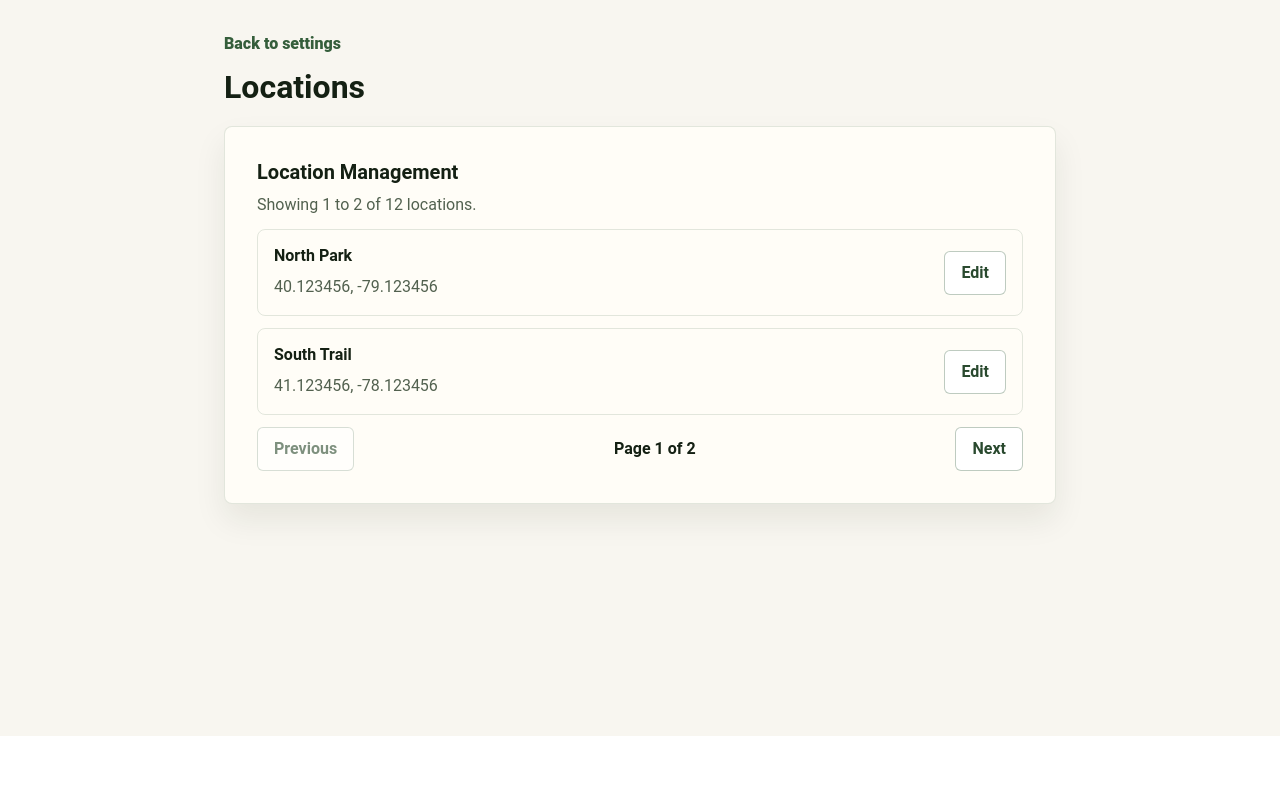
Test: LocationSettingsView › loads the next page
The width and height of the screenshot is (1280, 800).
Click the button "Next" at {"x": 989, "y": 449}, box x1=956 y1=427 x2=1023 y2=471
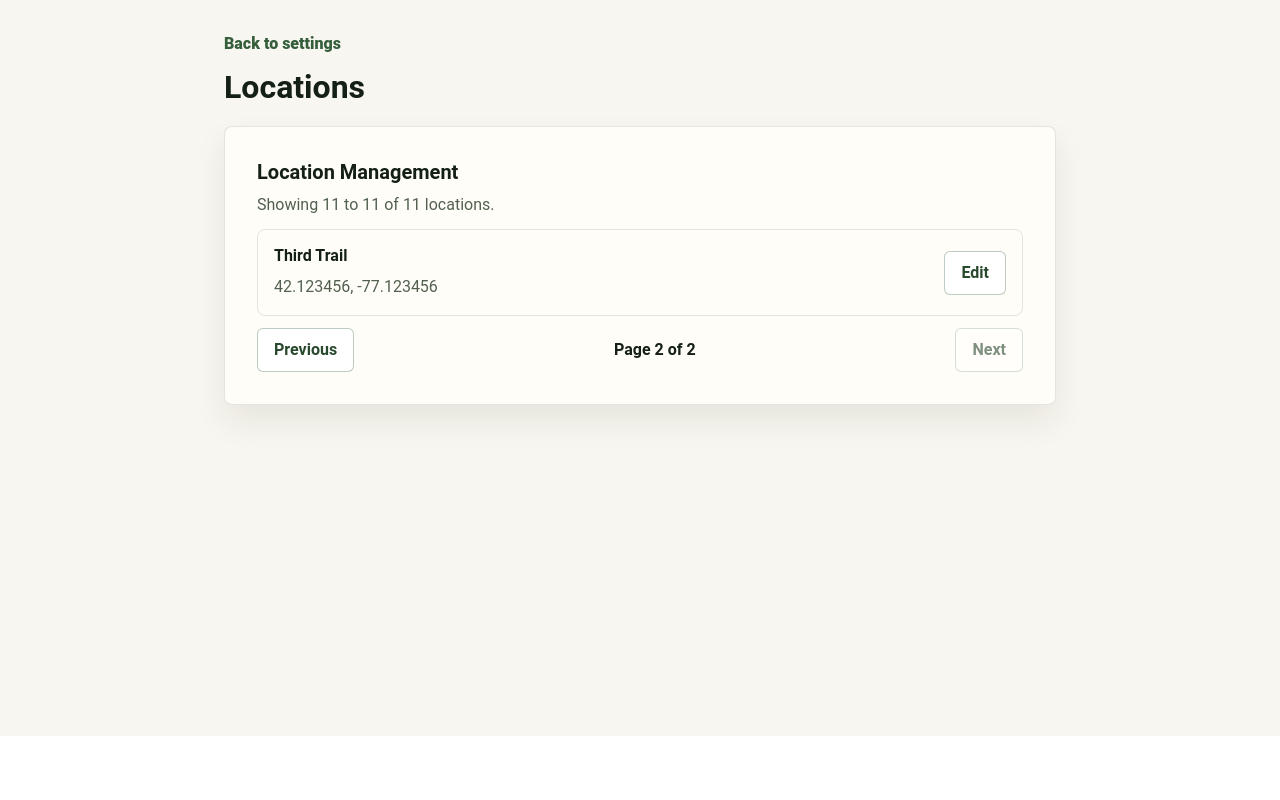
Expected: the text "Third Trail" is shown, x1=274 y1=246 x2=347 y2=265
Expected: the text "Page 2 of 2" is shown, x1=614 y1=338 x2=696 y2=362
